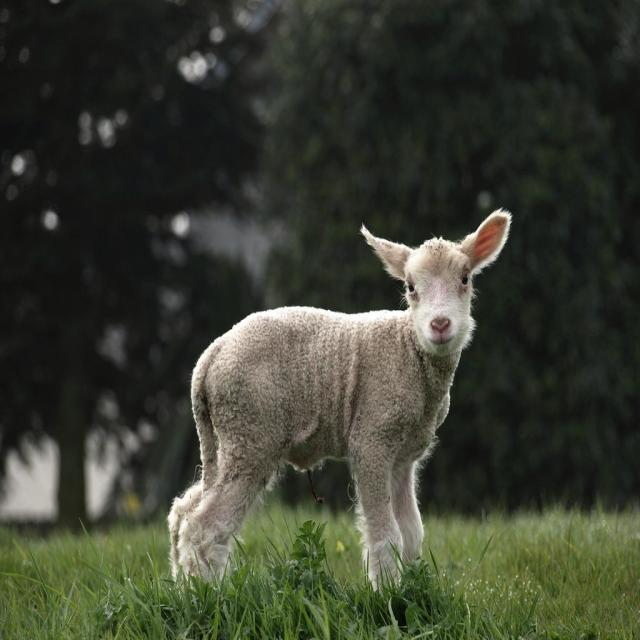Goat: (167, 205, 513, 596)
